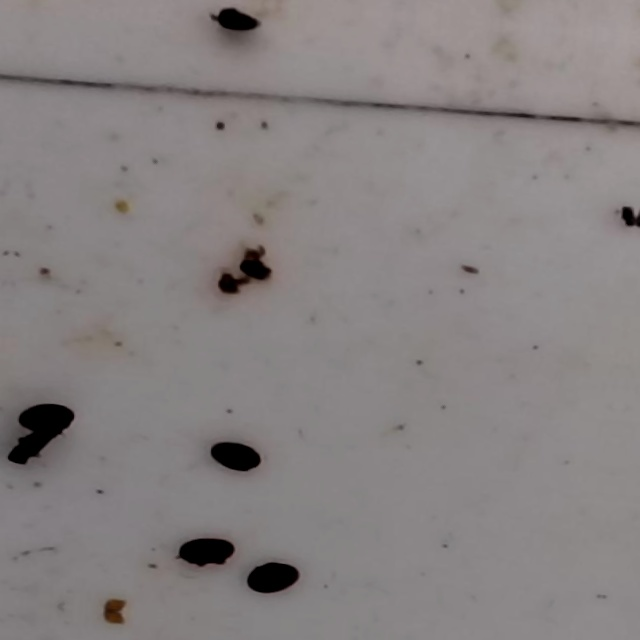varroa: (245, 560, 306, 599), (171, 535, 237, 570), (19, 398, 78, 437), (207, 438, 265, 476), (212, 8, 267, 37)
